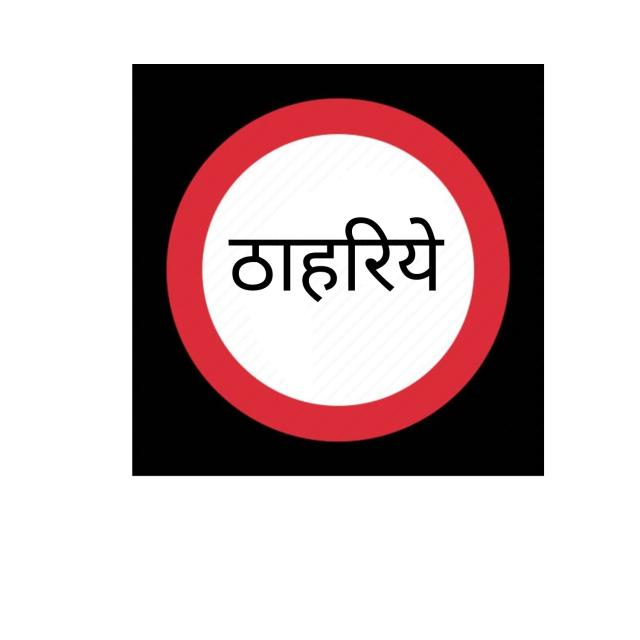hindistop: (212, 219, 456, 308)
